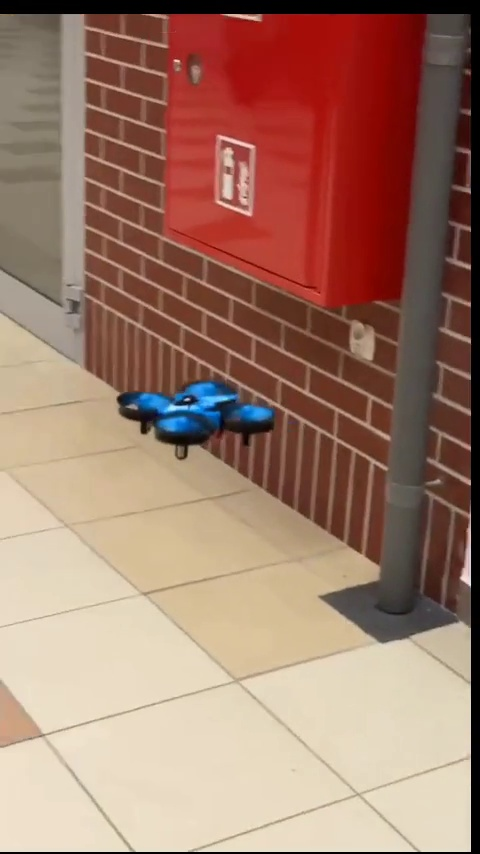drone: (117, 376, 274, 459)
